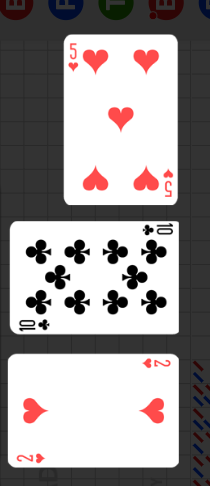10C: (17, 318, 51, 333), (140, 224, 174, 238)
5H: (67, 42, 79, 74)
